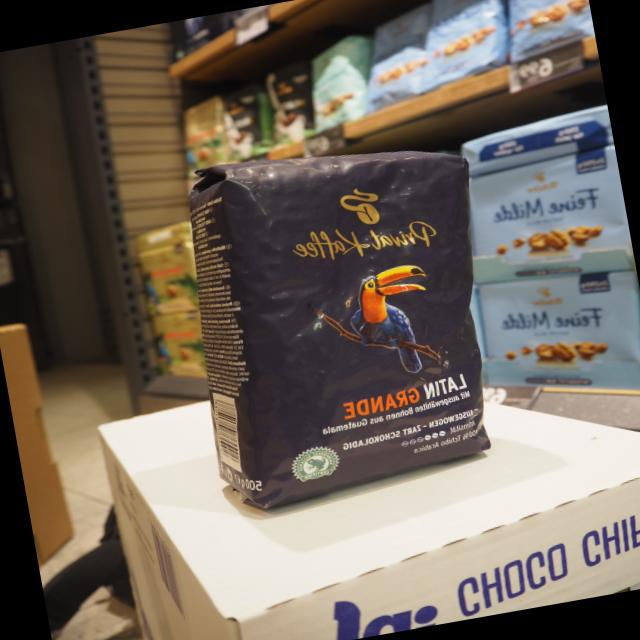LG Bohne: (176, 140, 498, 520)
